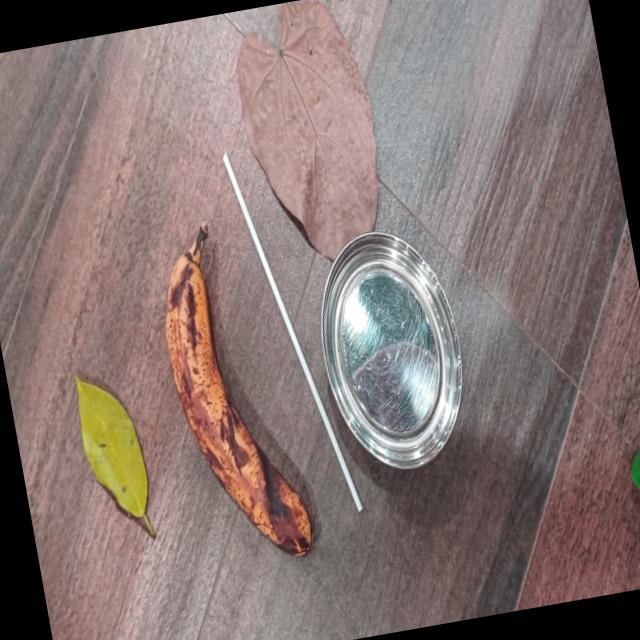Banana-Bio: (136, 203, 316, 588)
Leaf-Bio: (224, 0, 394, 276), (63, 360, 159, 556)
Steel-NonBio: (302, 220, 478, 482)
Straw-NonBio: (220, 148, 363, 509)
